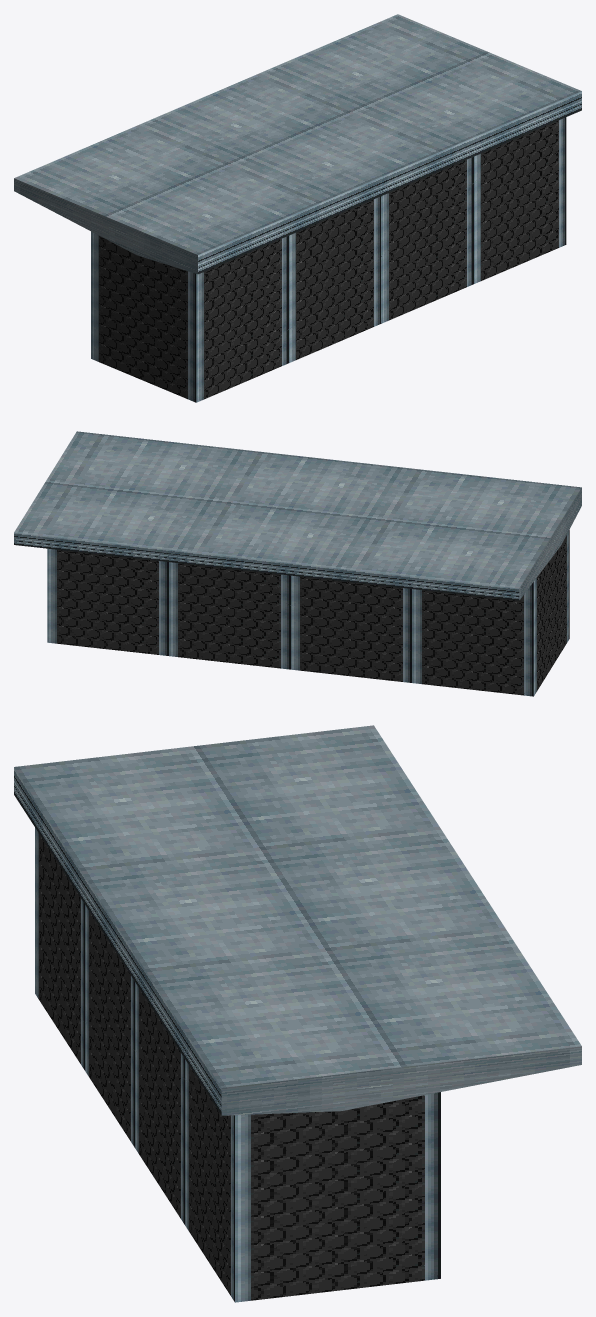
File: primary_063.glb
3 renders of one model, top to bottom at view 1: azimuth 30°, elevation 25°; view 2: azimuth 150°, elevation 25°; view 3: azimuth 270°, elevation 25°, orthographic. The views are drawn at different scales.
Parts seen in each view (by area): view 1: Object; view 2: Object; view 3: Object.
Boxes of the visible parts, x1,y1,x2,y2 form: Object: [14, 14, 581, 402]; Object: [14, 431, 581, 696]; Object: [14, 725, 581, 1302].
Size of the model in its own units: 3.56 by 1.02 by 2.36.
3 materials, 3 textured.
